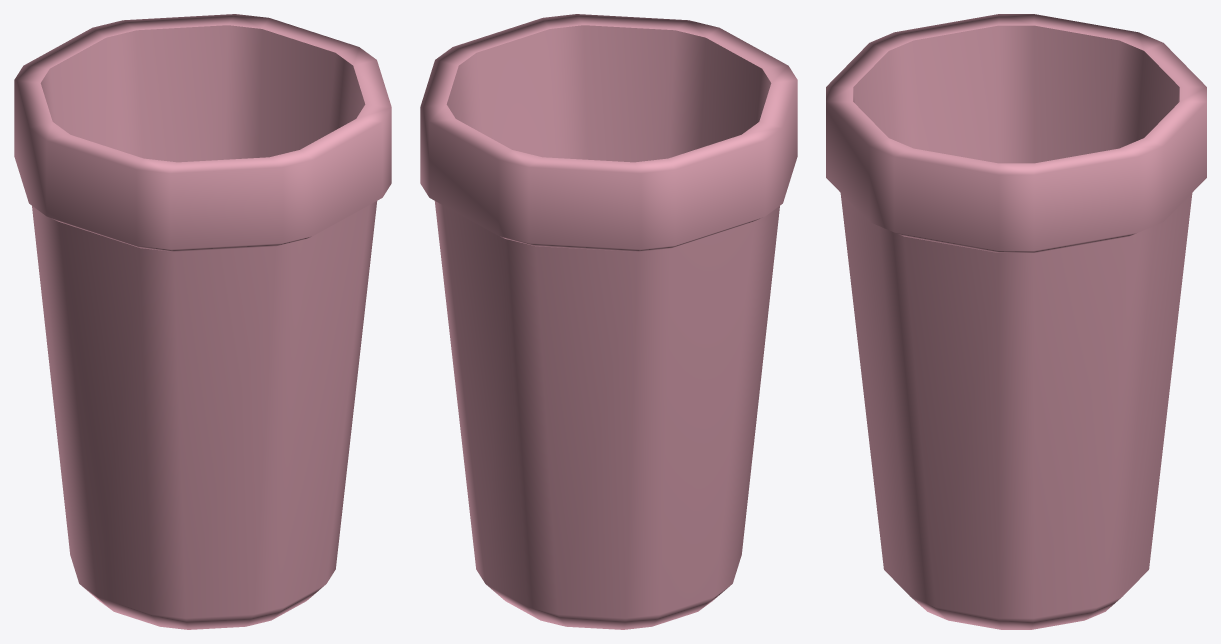
Rendered from GlassCup.fbx.
The picture shows the model from 3 angles, left to right: view 1: azimuth 30°, elevation 25°; view 2: azimuth 150°, elevation 25°; view 3: azimuth 270°, elevation 25°; orthographic projection.
Parts seen in each view (by area): view 1: GlassCup; view 2: GlassCup; view 3: GlassCup.
Part boxes in pixels (x1=…): GlassCup: x1=14, y1=14, x2=391, y2=629; GlassCup: x1=420, y1=14, x2=797, y2=629; GlassCup: x1=826, y1=14, x2=1206, y2=629.
Size of the model in its own units: 11.9 by 16.85 by 11.9.
